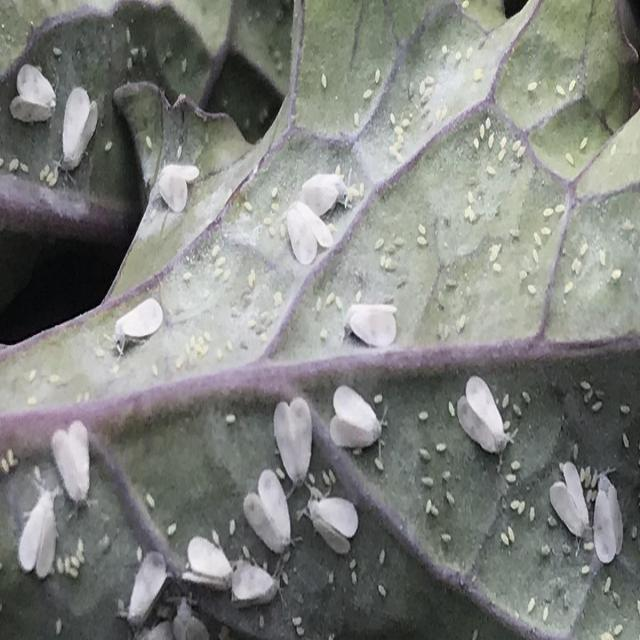Whiteflies: (234, 468, 318, 568), (447, 344, 509, 472), (264, 194, 352, 284), (45, 410, 122, 512), (261, 373, 332, 481), (104, 274, 183, 368), (297, 144, 368, 246), (11, 492, 83, 592), (533, 452, 597, 561), (110, 528, 171, 635), (148, 129, 218, 218), (333, 282, 415, 357), (221, 546, 302, 620), (324, 379, 394, 462), (575, 466, 629, 571), (170, 509, 235, 596), (9, 50, 62, 149), (305, 481, 367, 564), (57, 80, 111, 174)
